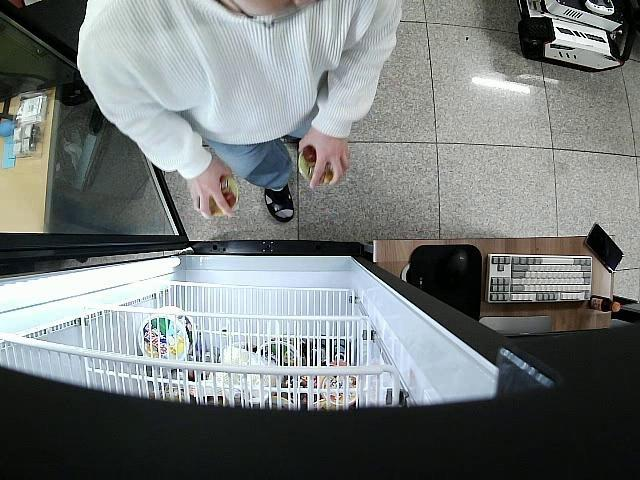04_chapagetti_S: (192, 174, 238, 220), (296, 146, 334, 187)
